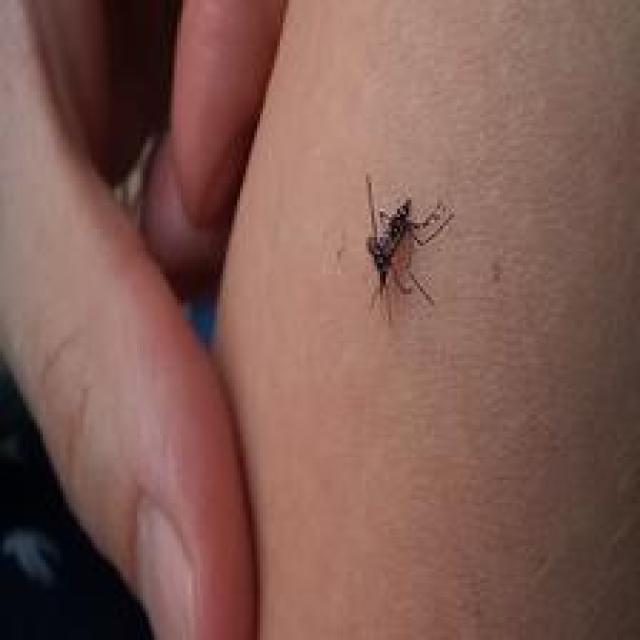Aedes albopictus: (360, 173, 454, 324)
